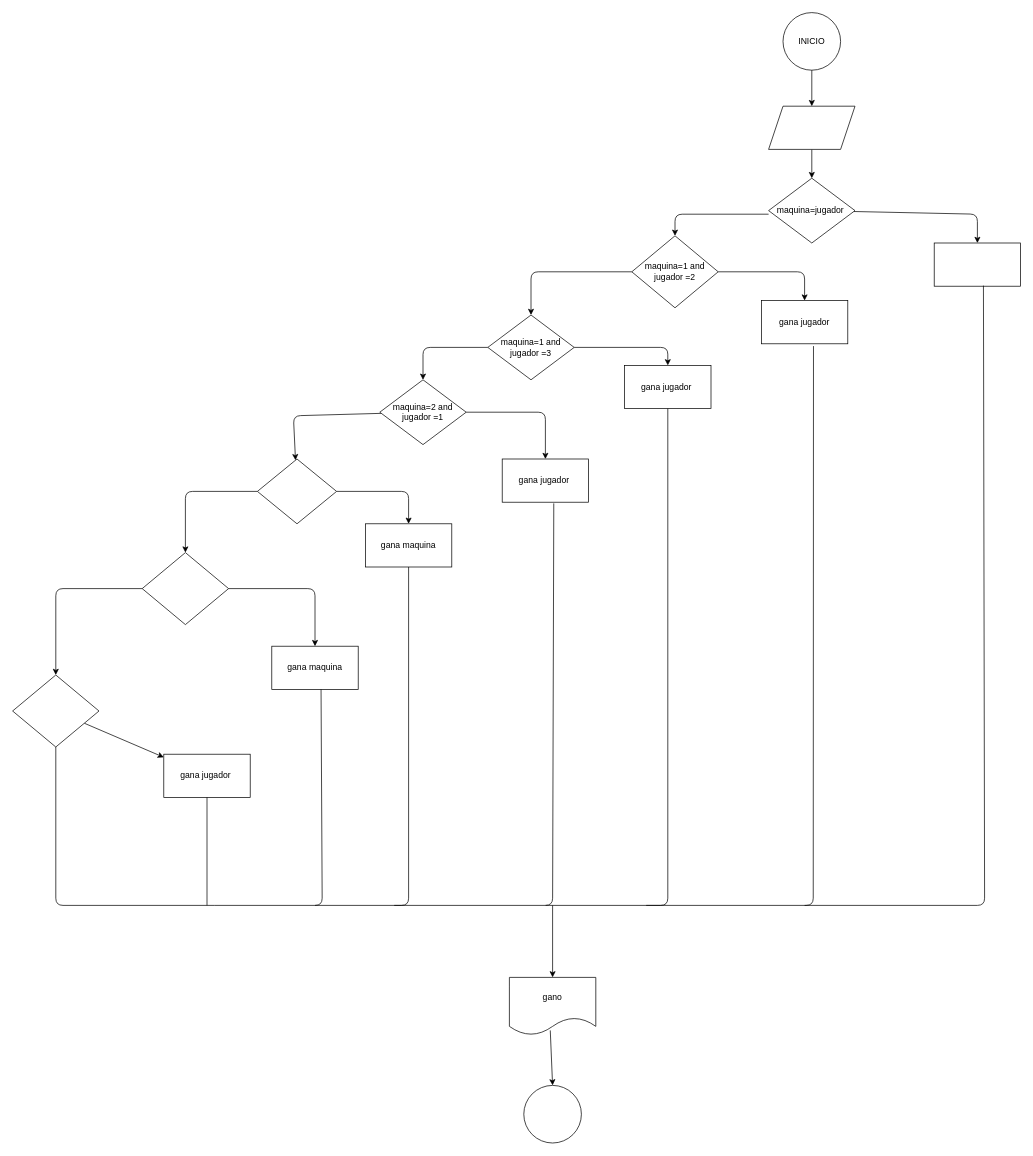
This 1033x1156 diagram has some shape labels left out. Here are the shapes that lost their labels. From the top down, the centre of each, then its label:
At [811,127]: "maquina, jugador".
At [977,264]: "empate".
At [297,491]: "maquina=2 and jugador =3".
At [185,588]: "maquina=3 and jugador =1".
At [55,710]: "maquina=3 and jugador=1".
At [552,1114]: "FIN".
